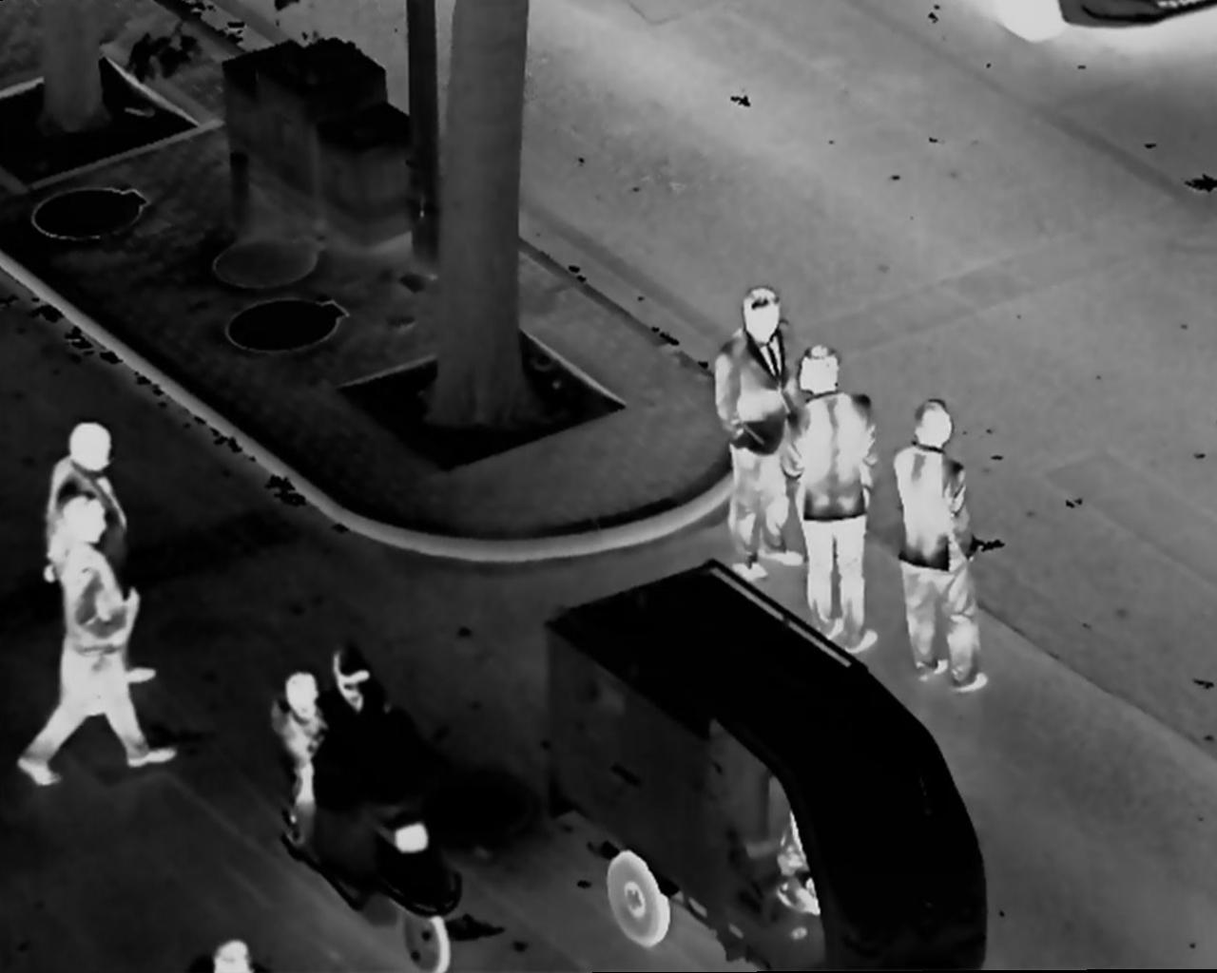person: (14, 496, 176, 785), (887, 393, 995, 695), (41, 412, 158, 683), (778, 343, 876, 654), (714, 284, 803, 588), (316, 639, 405, 757), (273, 669, 336, 816)
